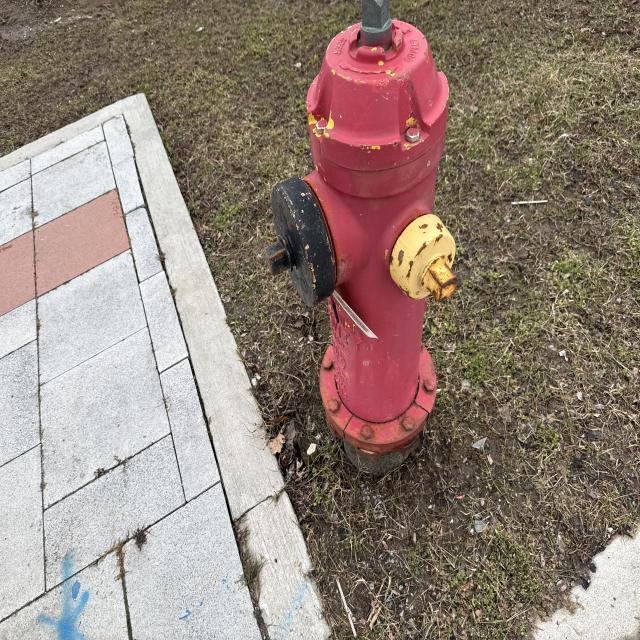Fire hydrant: (262, 0, 459, 463)
